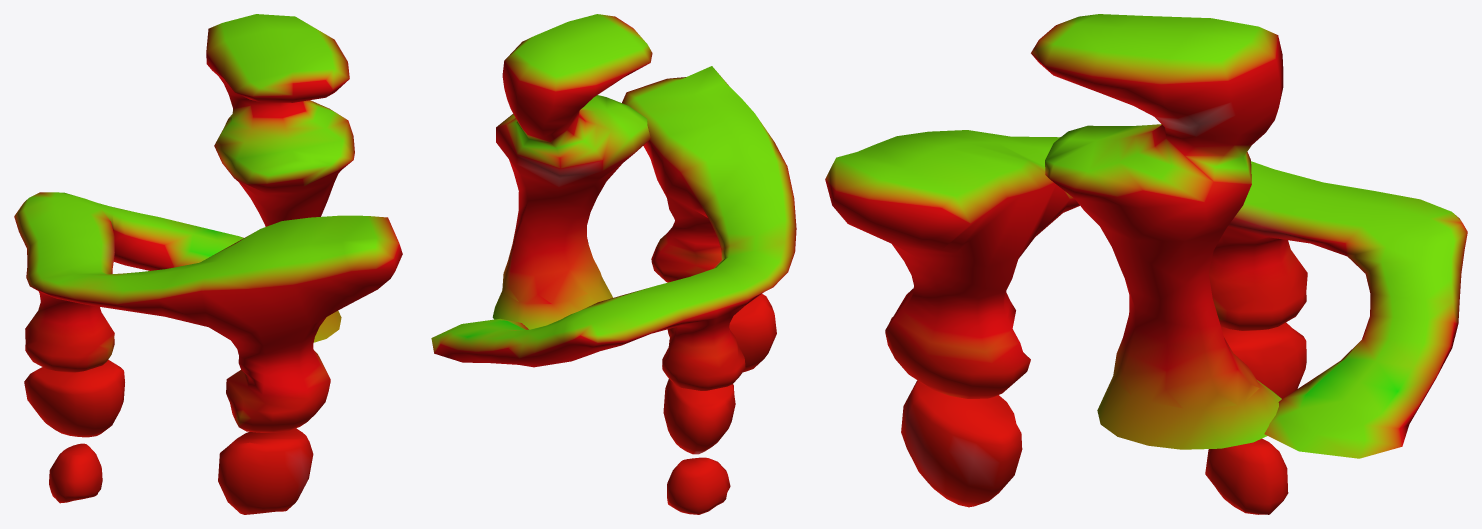
The model's file is AO Random Rock Spiral.fbx.
3 views of the same model, side by side, from view 1: azimuth 30°, elevation 25°; view 2: azimuth 150°, elevation 25°; view 3: azimuth 270°, elevation 25° (orthographic). The views are drawn at different scales.
Parts seen in each view (by area): view 1: Rock Spiral; view 2: Rock Spiral; view 3: Rock Spiral.
Boxes of the visible parts, x1,y1,x2,y2 form: Rock Spiral: (14,14,402,514); Rock Spiral: (431,14,796,514); Rock Spiral: (825,14,1467,514).
Size of the model in its own units: 1317 by 1774 by 1784.
